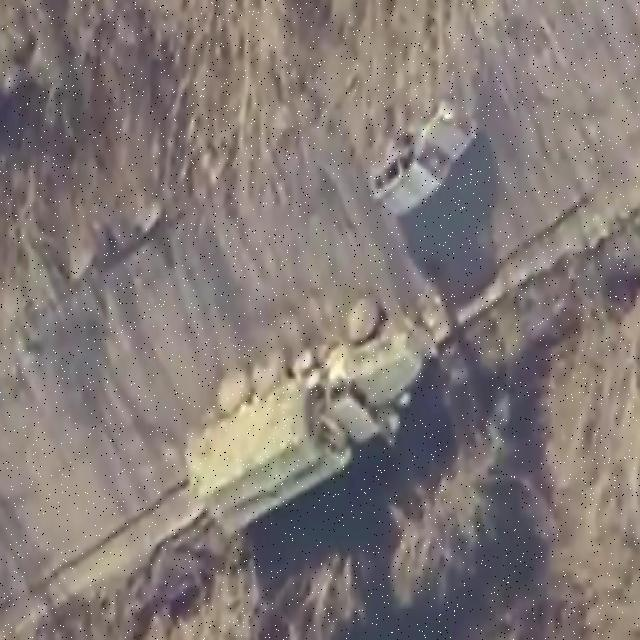CAR: (370, 90, 481, 230)
TRUCK: (178, 294, 428, 544)
